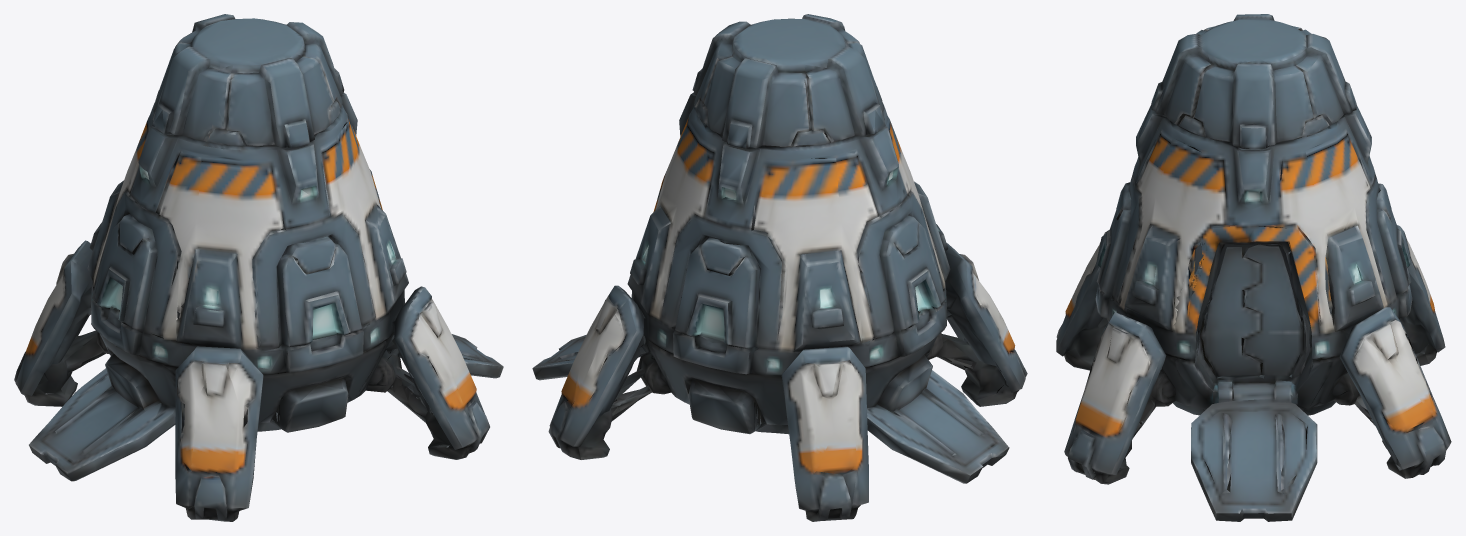
The picture shows the model from 3 angles, left to right: view 1: azimuth 30°, elevation 25°; view 2: azimuth 150°, elevation 25°; view 3: azimuth 270°, elevation 25°; orthographic projection. The views are drawn at different scales.
Parts seen in each view (by area): view 1: repaired; view 2: repaired; view 3: repaired.
Part boxes in pixels (bbox=[...]): repaired: bbox=[14, 14, 503, 521]; repaired: bbox=[532, 14, 1027, 521]; repaired: bbox=[1056, 14, 1451, 521].
Bounding box in the file's own units: 1 × 0.8541 × 0.805.
Materials: 1 (1 with a texture image).
